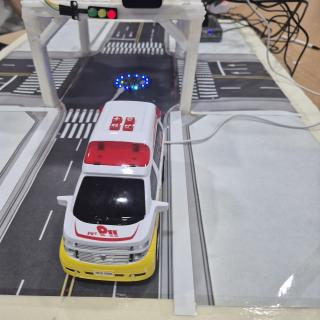Ambulance: (57, 101, 168, 282)
